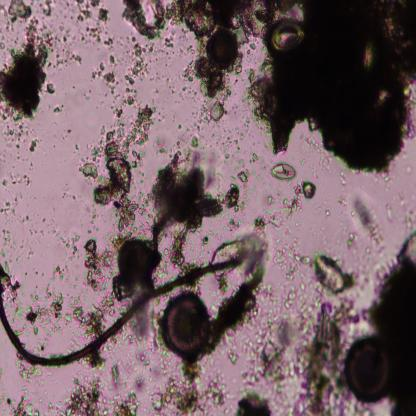Background material: (249, 0, 416, 170), (76, 104, 153, 233), (150, 152, 237, 257), (369, 230, 416, 414), (290, 298, 362, 414), (166, 0, 250, 94), (0, 19, 59, 122), (241, 308, 298, 395), (149, 369, 228, 415), (12, 286, 68, 340), (112, 240, 164, 298), (47, 368, 107, 414), (274, 237, 312, 306), (254, 178, 300, 233), (66, 294, 114, 338), (122, 34, 147, 106), (120, 0, 166, 39), (82, 238, 116, 290), (314, 255, 358, 294), (353, 193, 382, 244), (203, 121, 239, 160), (112, 376, 147, 415), (132, 310, 162, 354), (82, 341, 118, 374), (0, 388, 42, 416), (89, 56, 120, 92), (151, 128, 188, 155), (0, 258, 20, 302), (235, 392, 273, 415), (58, 31, 82, 66), (13, 356, 42, 384), (81, 25, 114, 48), (303, 138, 324, 174), (150, 36, 172, 70), (57, 229, 80, 261), (1, 199, 30, 223), (82, 208, 101, 240), (3, 124, 26, 150), (237, 168, 250, 212), (7, 0, 32, 21), (192, 96, 206, 133), (206, 99, 226, 123), (50, 262, 71, 284), (402, 199, 416, 230), (30, 226, 59, 240), (346, 226, 360, 254), (56, 184, 77, 202), (2, 174, 32, 186), (134, 351, 154, 369), (76, 1, 93, 22), (302, 180, 318, 200), (41, 0, 56, 19), (110, 363, 121, 388), (0, 228, 13, 248), (97, 6, 109, 26), (188, 134, 200, 153), (242, 122, 252, 139), (336, 195, 347, 208), (46, 80, 56, 94), (29, 139, 39, 153), (62, 127, 73, 139), (248, 153, 259, 165), (52, 104, 65, 114), (26, 248, 37, 257), (90, 0, 101, 7)
Diatom: (344, 336, 390, 406), (163, 290, 210, 358), (270, 13, 307, 59), (207, 28, 238, 70), (271, 161, 297, 182)
